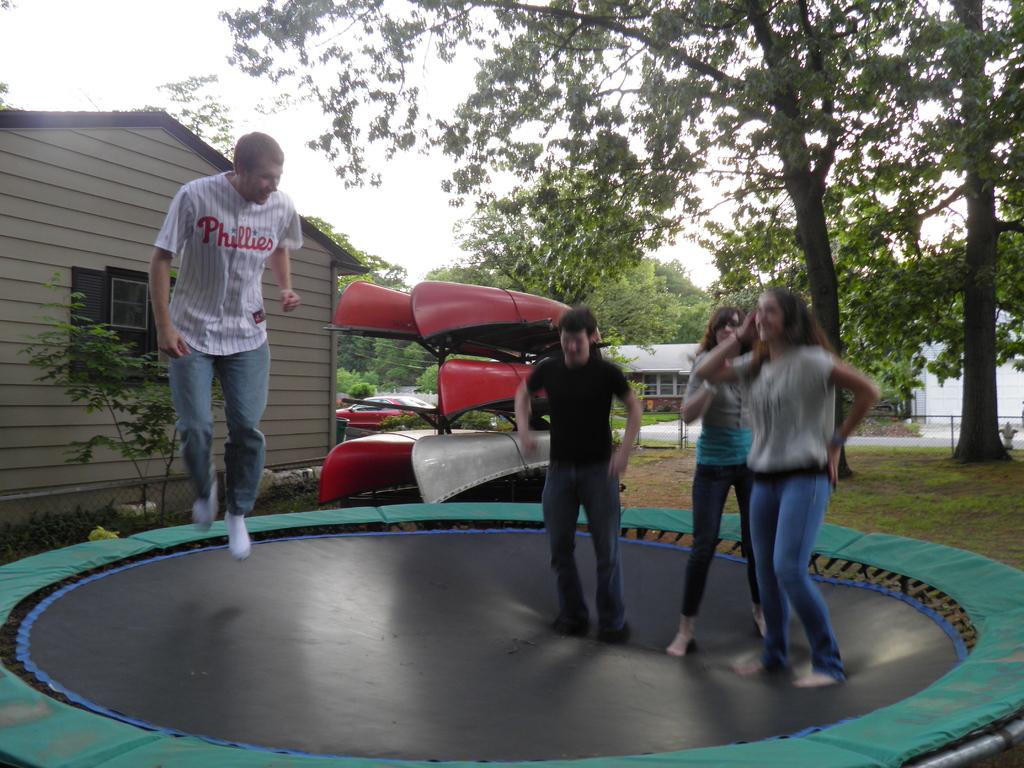Person: (144, 129, 300, 555), (512, 309, 642, 644)
